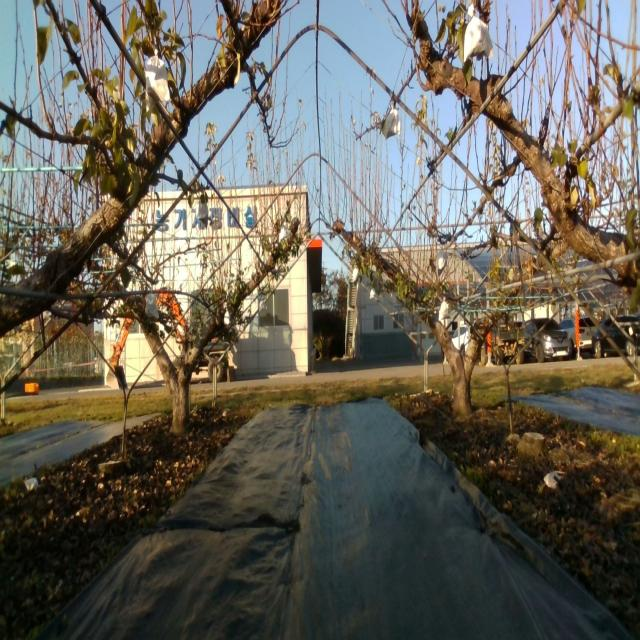pearbags: (464, 6, 494, 61), (145, 50, 167, 104), (385, 103, 402, 139), (145, 292, 159, 320), (438, 296, 452, 321), (196, 201, 208, 229), (437, 246, 448, 276)
